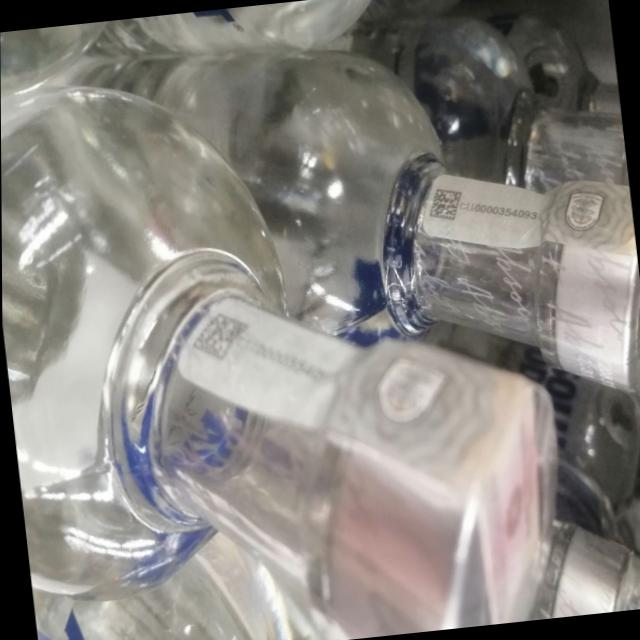datamatrix: (186, 309, 254, 365), (425, 184, 467, 228)
